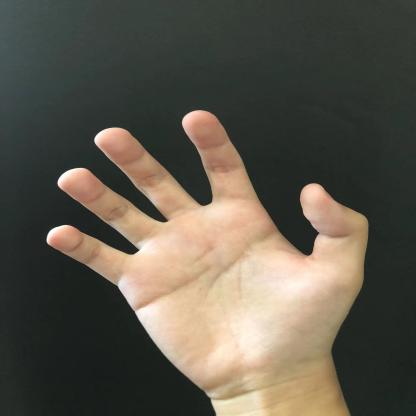palm: (27, 76, 384, 382)
